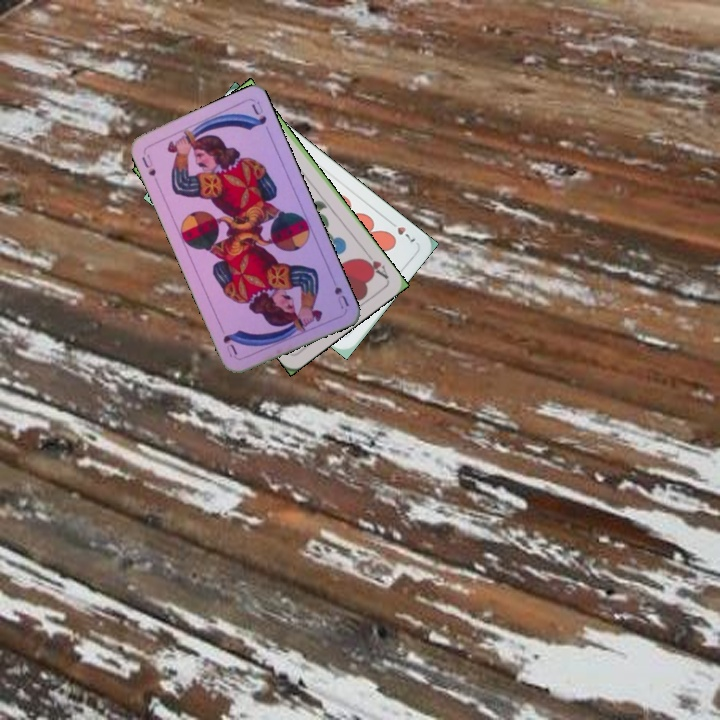H7: (384, 216, 418, 246)
HA: (359, 247, 391, 282)
SU: (138, 150, 161, 187), (330, 283, 351, 312)
